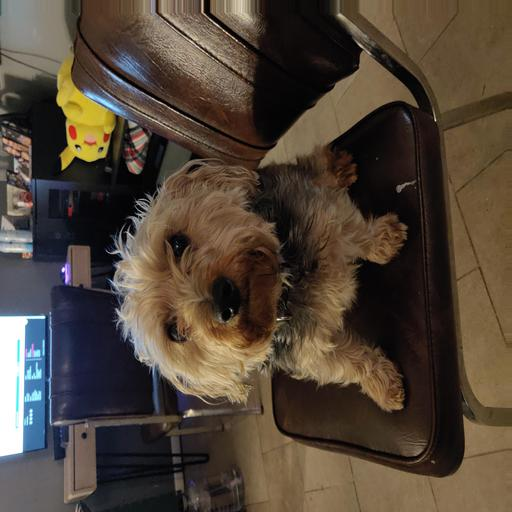dog: (104, 159, 337, 392)
